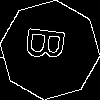B: (25, 25, 75, 63)
